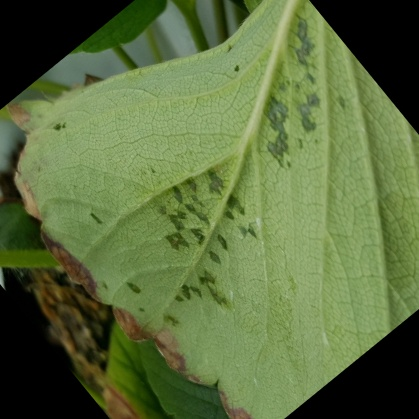Angular_LS: (57, 0, 411, 418)
